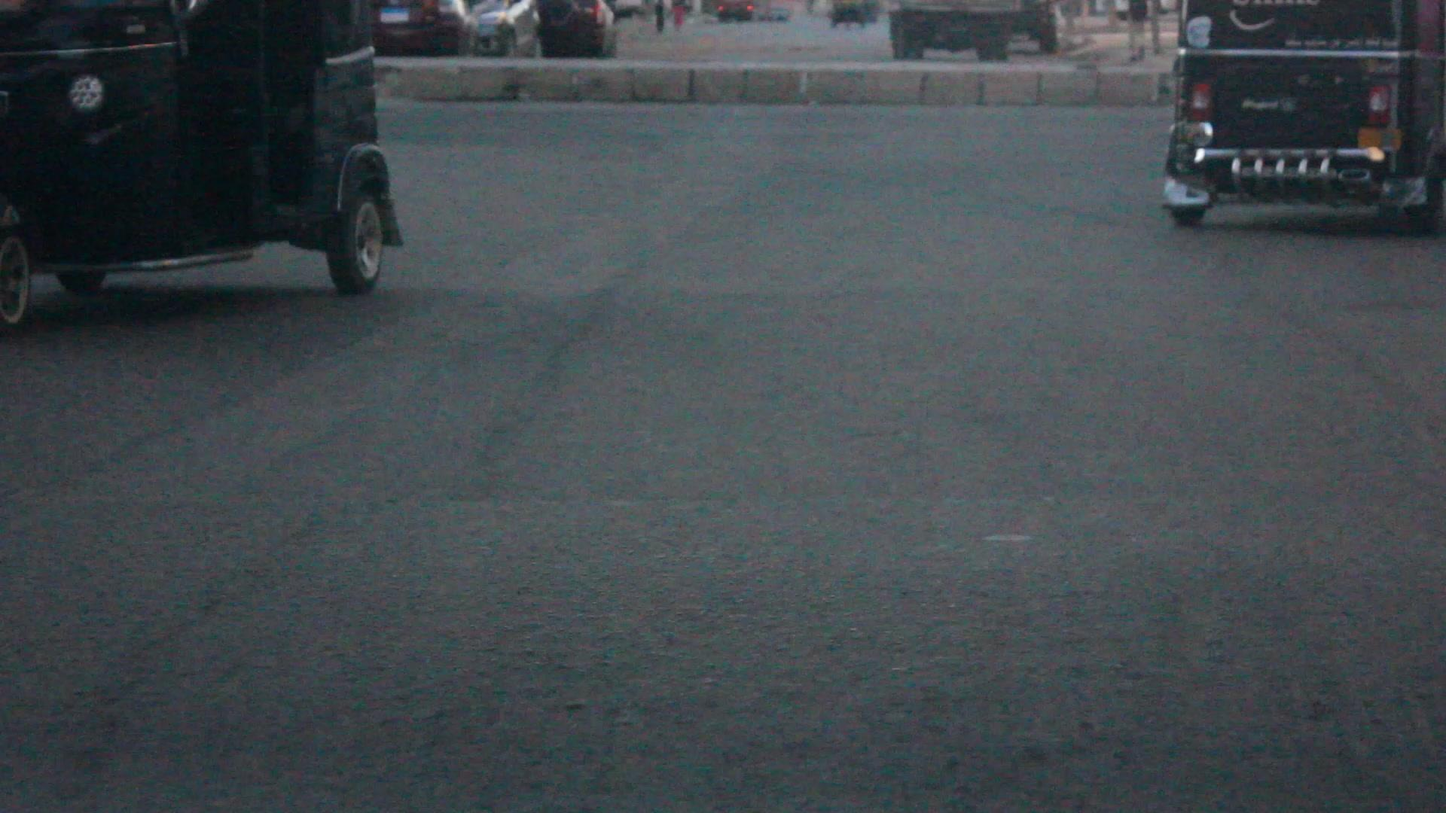Bump: (0, 493, 1446, 813)
